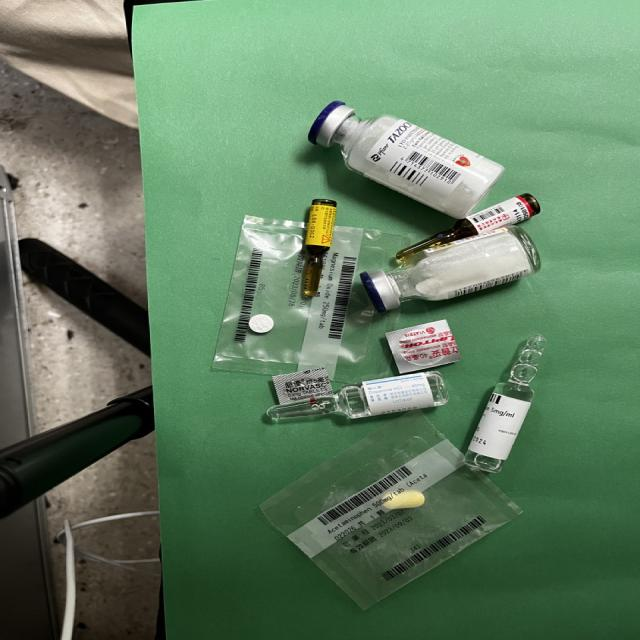Ampoules: (463, 334, 546, 474), (396, 194, 540, 261), (266, 372, 448, 422), (302, 200, 336, 298)
Vials: (307, 100, 503, 218), (360, 226, 540, 312)
